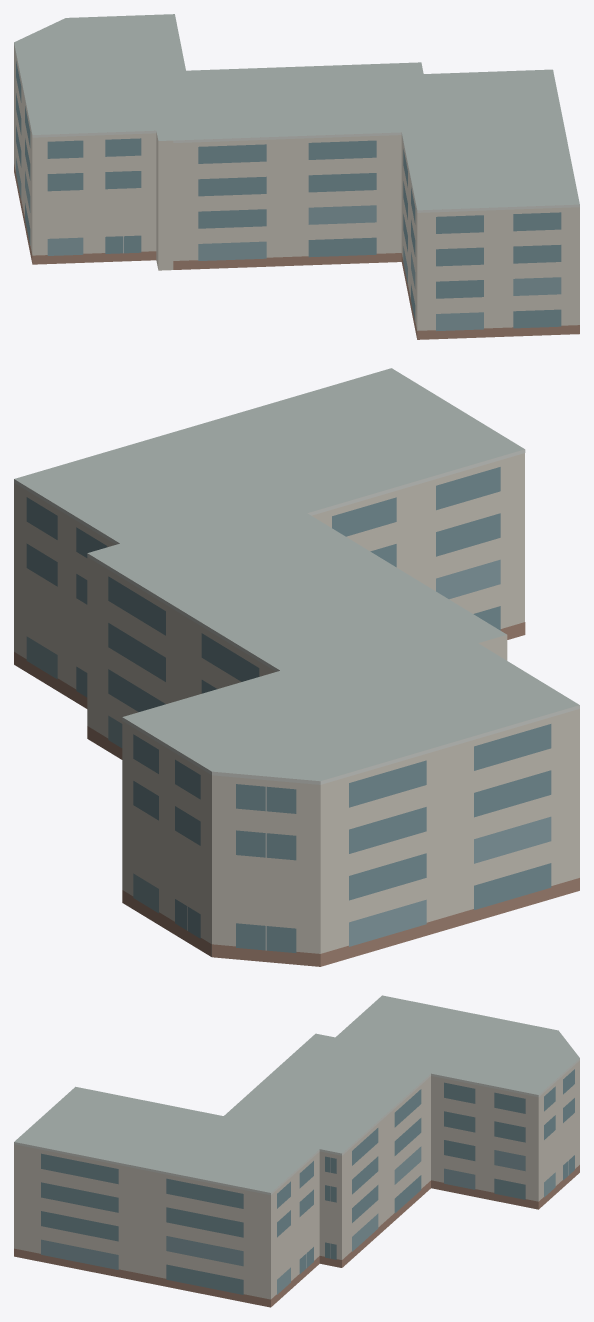
File: residential-6344d76f-591e-4fcb-9775-77c554367730.glb
3 views of the same model, one above another, from view 1: azimuth 30°, elevation 25°; view 2: azimuth 150°, elevation 25°; view 3: azimuth 270°, elevation 25° (orthographic). The views are drawn at different scales.
Parts seen in each view (by area): view 1: residential-6344d76f-591e-4fcb-9775-77c554367730.tmp; view 2: residential-6344d76f-591e-4fcb-9775-77c554367730.tmp; view 3: residential-6344d76f-591e-4fcb-9775-77c554367730.tmp.
Boxes of the visible parts, x1,y1,x2,y2 form: residential-6344d76f-591e-4fcb-9775-77c554367730.tmp: (14,14,579,339); residential-6344d76f-591e-4fcb-9775-77c554367730.tmp: (14,368,579,966); residential-6344d76f-591e-4fcb-9775-77c554367730.tmp: (14,995,579,1307).
Size of the model in its own units: 45.13 by 12.2 by 54.61.
